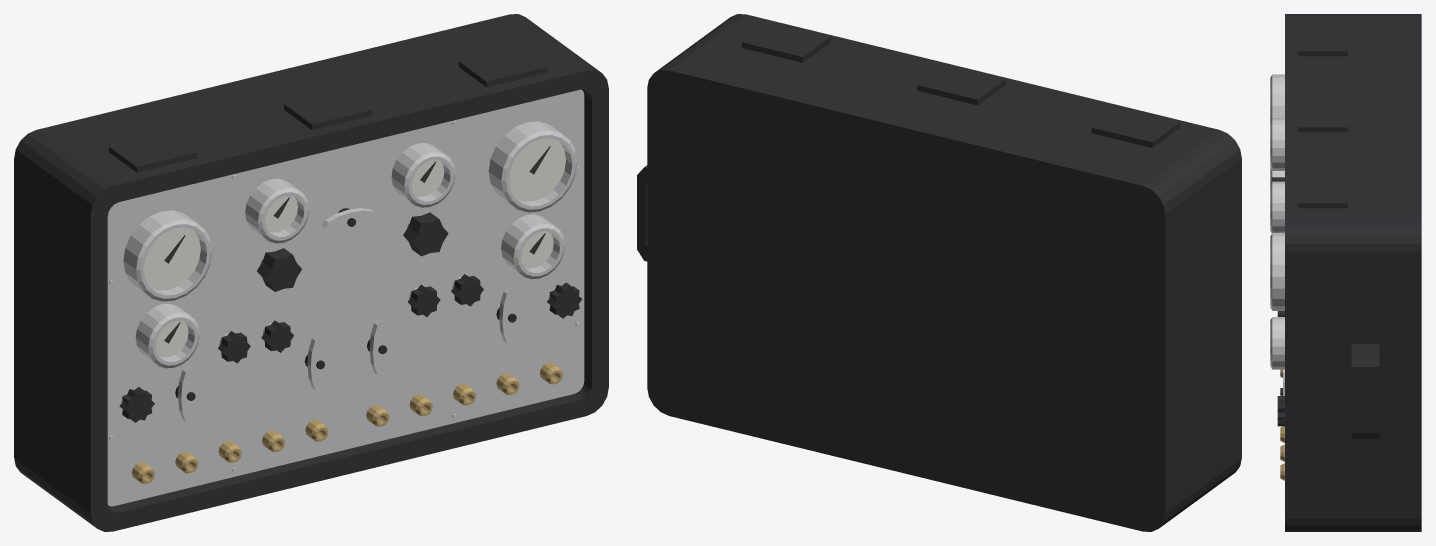
3 renders of one model, left to right at view 1: azimuth 30°, elevation 25°; view 2: azimuth 150°, elevation 25°; view 3: azimuth 270°, elevation 25°, orthographic. The views are drawn at different scales.
Visible parts, largest first — view 1: Inset_metal_panel, Closed_case_estimated_back, Raised_case_rim, Gauge_0_recessed_body, Gauge_1_recessed_body, Gauge_0_face, Gauge_1_face, Gauge_3_recessed_body, Gauge_5_recessed_body, Gauge_4_recessed_body, Gauge_2_recessed_body, Case_latch_2_1 (+19 smaller); view 2: Closed_case_estimated_back, Raised_case_rim, Case_latch_0_1, Case_latch_1_1, Case_latch_2_1, Right_carry_handle; view 3: Closed_case_estimated_back, Raised_case_rim, Right_carry_handle, Case_latch_0_1, Case_latch_1_1, Case_latch_2_1, Gauge_1_recessed_body, Gauge_5_recessed_body, Gauge_2_recessed_body, Gauge_3_recessed_body, Gauge_0_recessed_body, Knob_7_scalloped_grip.
Part boxes in pixels (box(x1,y1,x2,y2)): Inset_metal_panel: box(107, 89, 584, 506); Closed_case_estimated_back: box(14, 14, 589, 519); Raised_case_rim: box(79, 61, 608, 531); Gauge_0_recessed_body: box(123, 210, 212, 301); Gauge_1_recessed_body: box(488, 121, 577, 212); Gauge_0_face: box(143, 227, 200, 290); Gauge_1_face: box(509, 138, 565, 201); Gauge_3_recessed_body: box(391, 143, 455, 207); Gauge_5_recessed_body: box(501, 214, 565, 279); Gauge_4_recessed_body: box(135, 303, 200, 368); Gauge_2_recessed_body: box(245, 178, 309, 243); Case_latch_2_1: box(458, 46, 547, 87); Closed_case_estimated_back: box(647, 22, 1230, 531); Raised_case_rim: box(719, 14, 1241, 480); Case_latch_0_1: box(1091, 107, 1180, 147); Case_latch_1_1: box(917, 64, 1005, 105); Case_latch_2_1: box(742, 22, 830, 62); Right_carry_handle: box(637, 165, 647, 261); Closed_case_estimated_back: box(1305, 14, 1421, 531); Raised_case_rim: box(1285, 14, 1305, 531); Right_carry_handle: box(1351, 344, 1379, 438); Case_latch_0_1: box(1298, 24, 1348, 56); Case_latch_1_1: box(1298, 100, 1348, 132); Case_latch_2_1: box(1298, 176, 1348, 208); Gauge_1_recessed_body: box(1270, 233, 1284, 310); Gauge_5_recessed_body: box(1270, 317, 1284, 369); Gauge_2_recessed_body: box(1270, 118, 1284, 170); Gauge_3_recessed_body: box(1270, 181, 1284, 233); Gauge_0_recessed_body: box(1270, 74, 1284, 120); Knob_7_scalloped_grip: box(1277, 396, 1284, 426).
Bounding box in the file's own units: 0.852 × 0.527 × 0.227.
